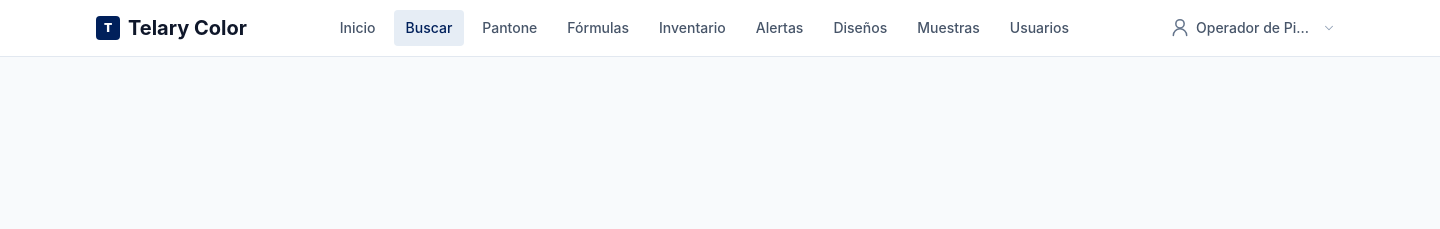
Test case: Layout — mobile bottom navigation › exposes the admin destinations for an admin profile menu
Click the button "Operador de Pintura": click(1253, 28) [1162,12,1344,44]
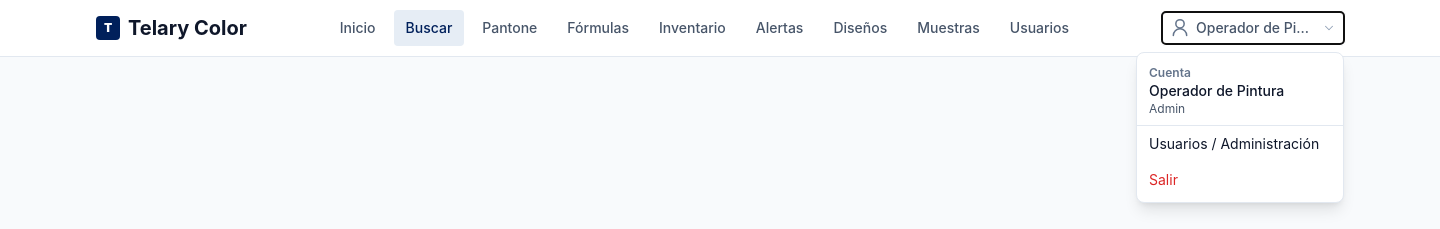
Expected: the link "Usuarios / Administración" is shown, [1149,135,1319,152]
